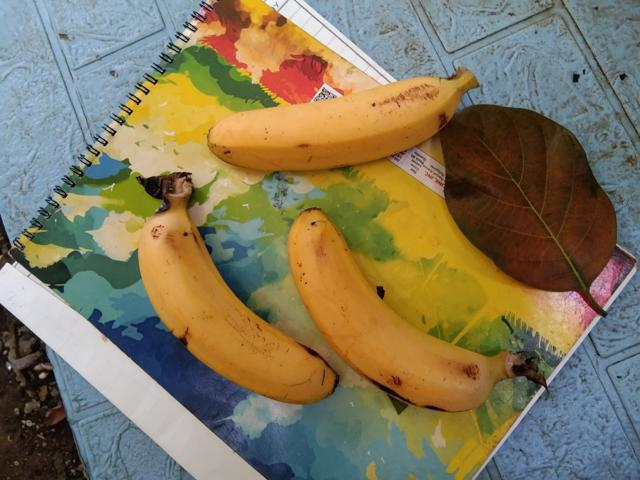freshripe: (193, 52, 482, 176)
ripe: (295, 206, 513, 435), (131, 205, 347, 418)
